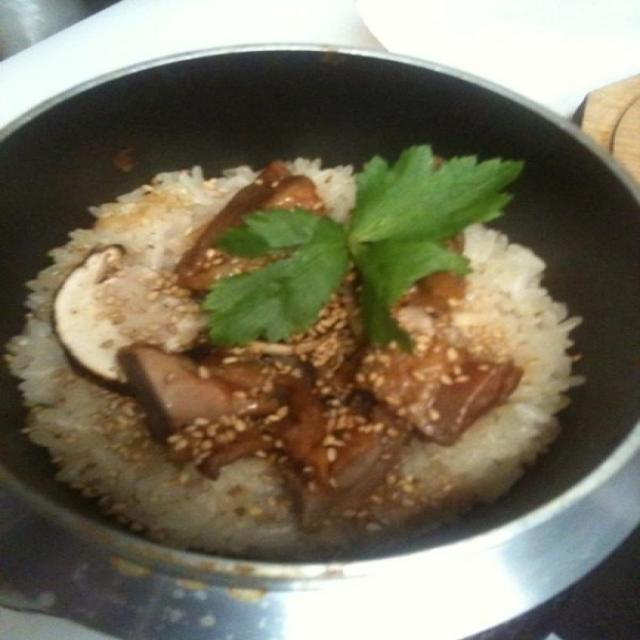鸡蛋料理: (8, 187, 597, 456)
